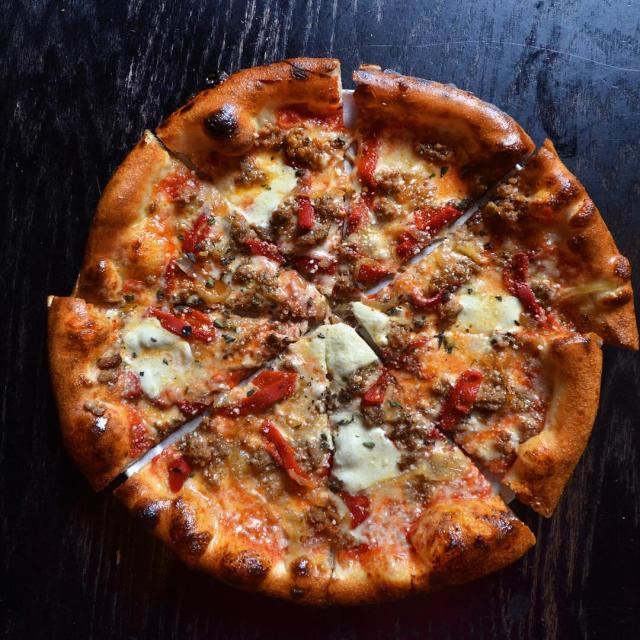pizza: (49, 58, 636, 604)
